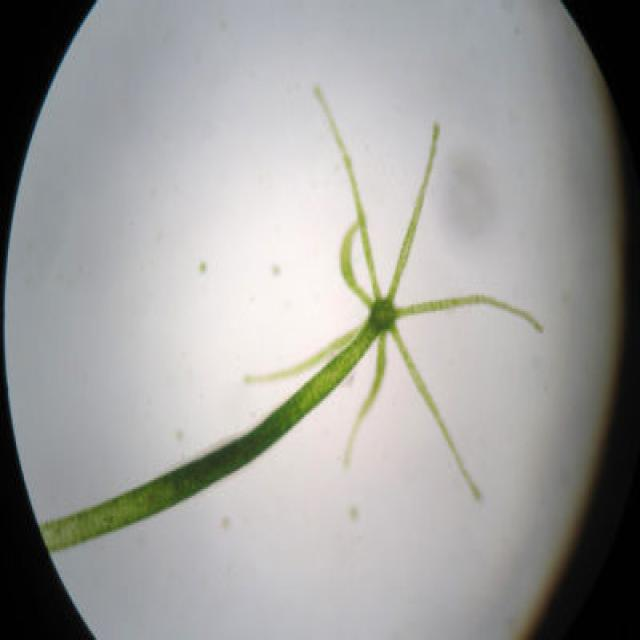Hydra: (2, 3, 640, 640)
